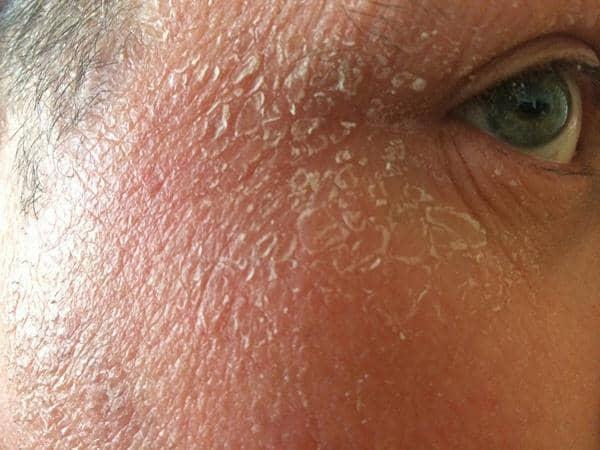Dry-Skin: (4, 0, 600, 450)
